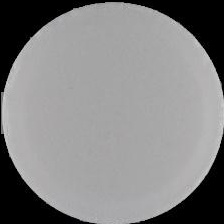50436-3220: (0, 0, 224, 224)
